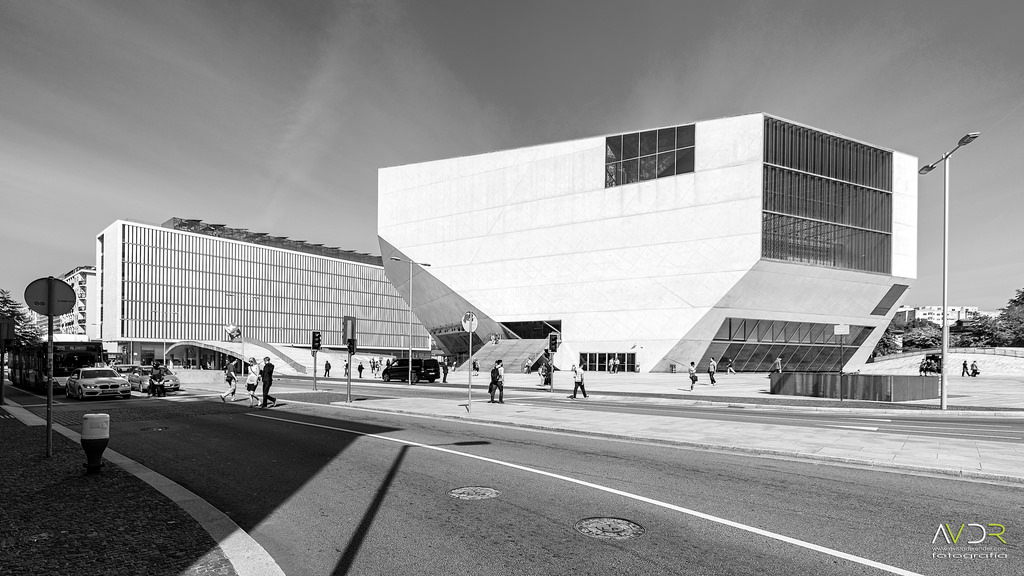musica: (375, 111, 920, 371)
